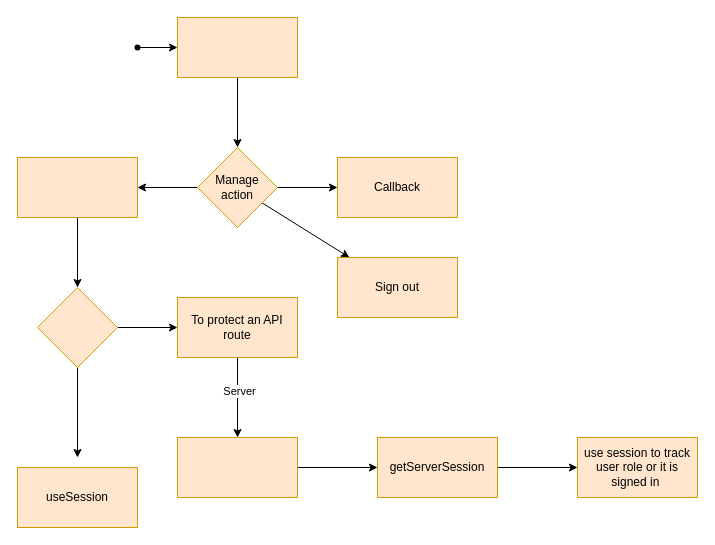
This 715x545 diagram has some shape labels left out. Each missing label, with the centre of its shape:
"/api/auth/signIn" goes at point 77,187.
"configuration api/auth/[...nextauth].ts" goes at point 237,47.
"create a file api/restricted.ts" goes at point 237,467.
"We can access" goes at point 77,327.
